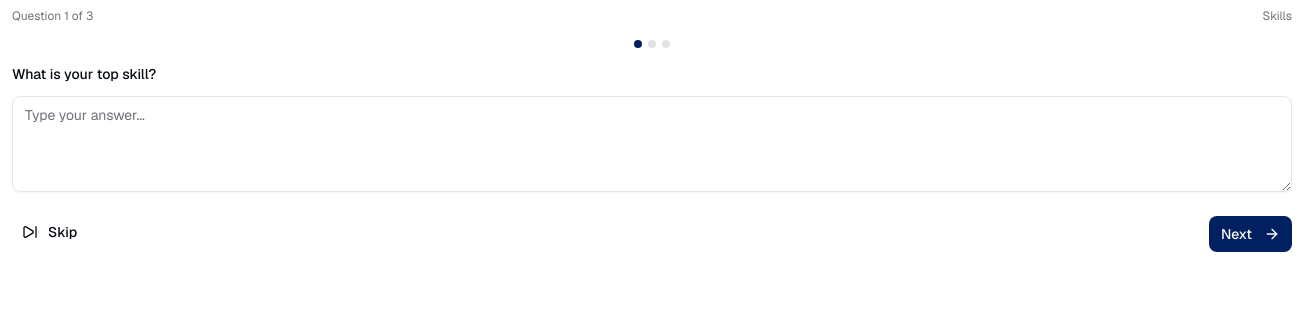
Test: StepQuestions › dot indicators are clickable for navigation
Type "React" into the text box with placeholder "Type your answer..." at (652, 144), box [12, 96, 1292, 192]
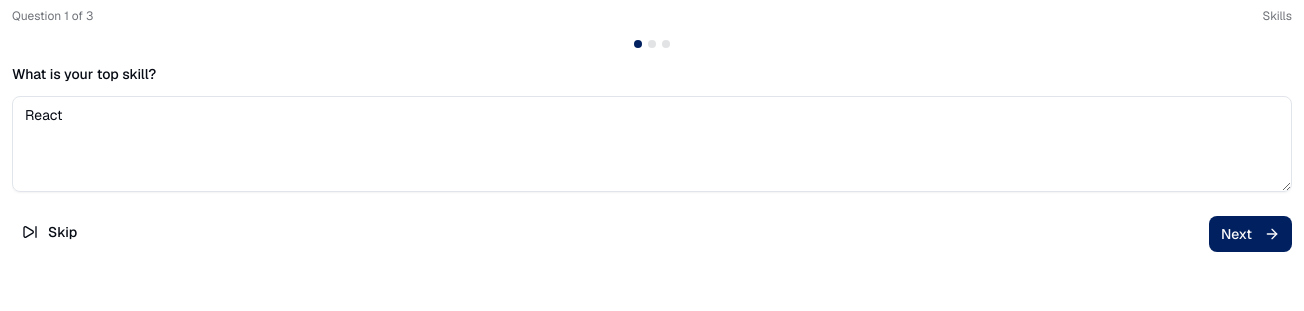
Click the button named "Go to question 3" at (666, 44), box [662, 40, 670, 48]
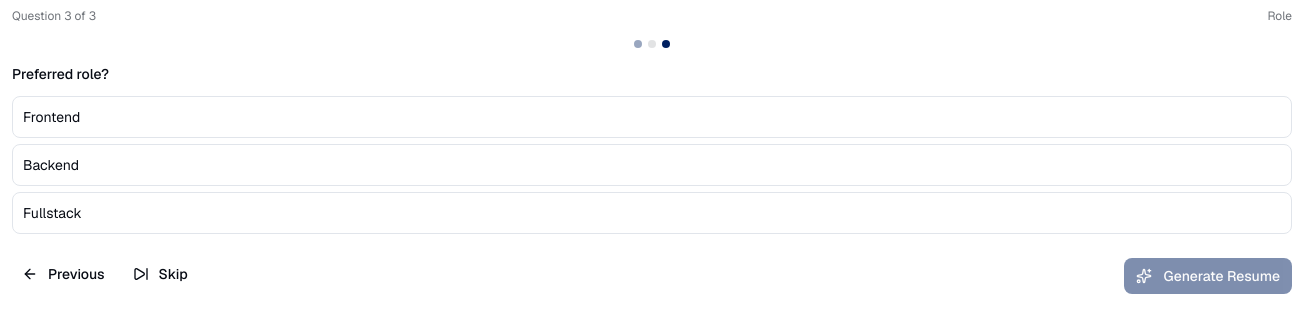
Check: the text "Preferred role?" is shown, box [12, 65, 109, 83]
Click the button named "Go to question 1" at (638, 44), box [634, 40, 642, 48]
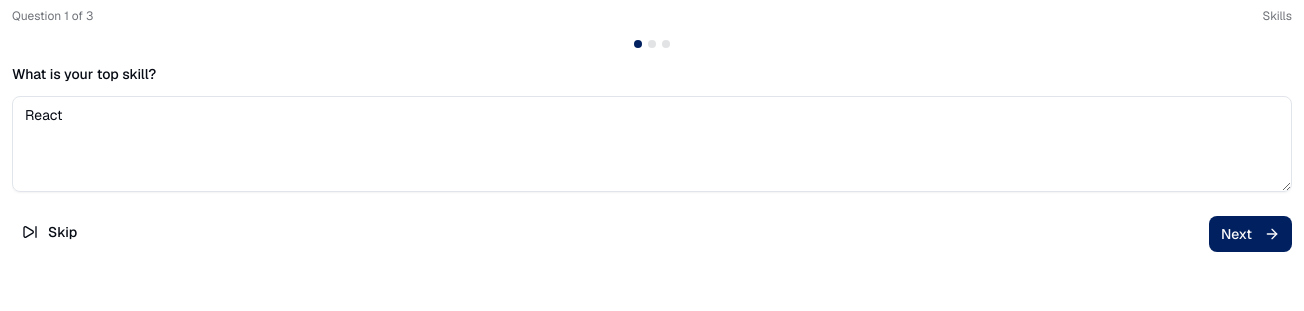
Check: the text box with placeholder "Type your answer..." holds "React", box [12, 96, 1292, 192]
